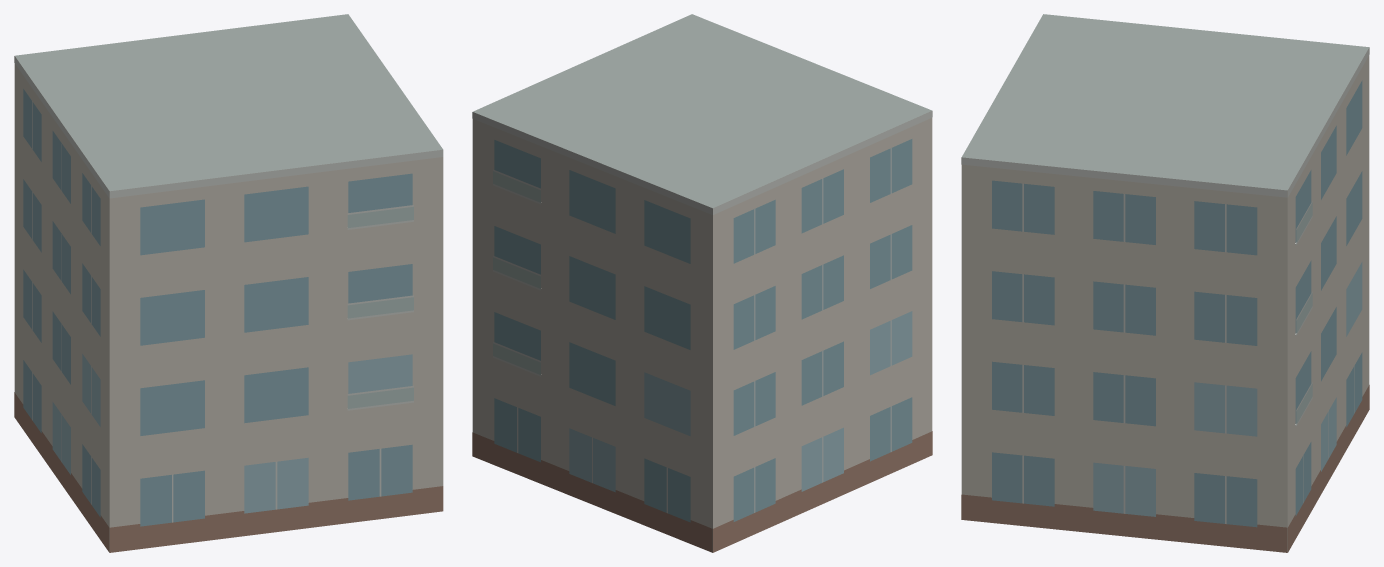
File: residential-de00dbf2-e7db-4343-b121-042f6c9e57c6.glb
The picture shows the model from 3 angles, left to right: view 1: azimuth 30°, elevation 25°; view 2: azimuth 150°, elevation 25°; view 3: azimuth 270°, elevation 25°; orthographic projection. The views are drawn at different scales.
Parts seen in each view (by area): view 1: residential-de00dbf2-e7db-4343-b121-042f6c9e57c6.tmp; view 2: residential-de00dbf2-e7db-4343-b121-042f6c9e57c6.tmp; view 3: residential-de00dbf2-e7db-4343-b121-042f6c9e57c6.tmp.
Part boxes in pixels (<box>): residential-de00dbf2-e7db-4343-b121-042f6c9e57c6.tmp: <box>14,14,443,552</box>; residential-de00dbf2-e7db-4343-b121-042f6c9e57c6.tmp: <box>472,14,932,552</box>; residential-de00dbf2-e7db-4343-b121-042f6c9e57c6.tmp: <box>961,14,1369,552</box>.
Size of the model in its own units: 12.75 by 12.2 by 12.46.
